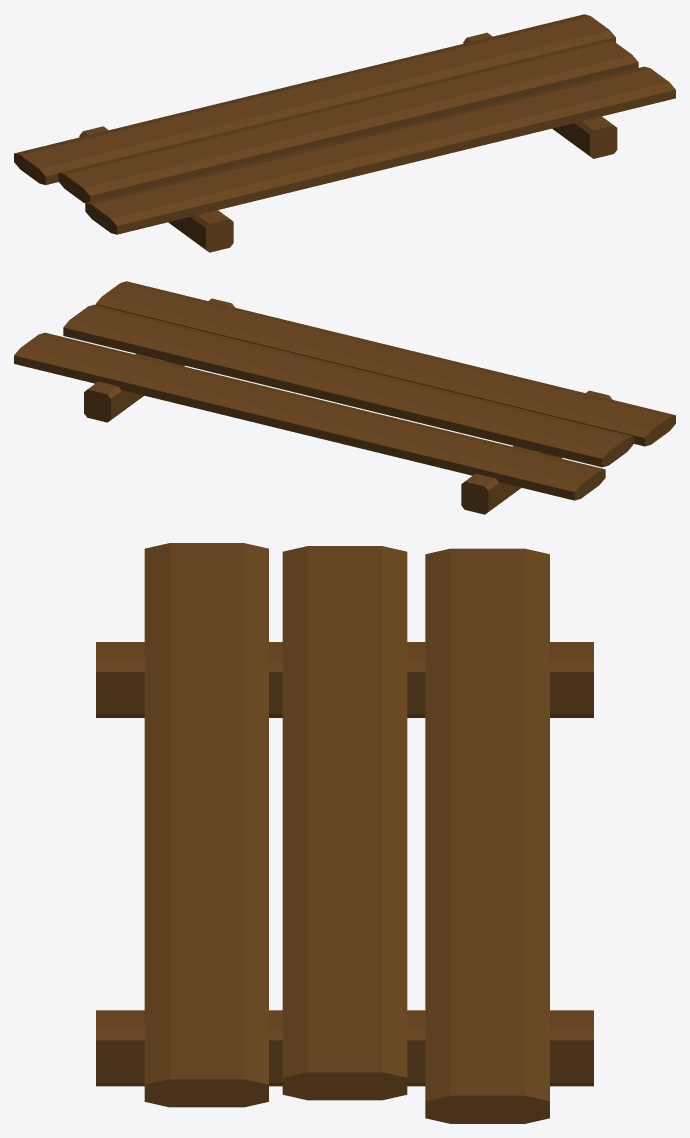
File: Floor.fbx
The picture shows the model from 3 angles, top to bottom: view 1: azimuth 30°, elevation 25°; view 2: azimuth 150°, elevation 25°; view 3: azimuth 270°, elevation 25°; orthographic projection. The views are drawn at different scales.
Parts seen in each view (by area): view 1: Cube.001, Cube, Cube.002, Cube.003, Cube.004; view 2: Cube.002, Cube, Cube.001, Cube.004, Cube.003; view 3: Cube.002, Cube.001, Cube, Cube.003, Cube.004.
Boxes of the visible parts, left/top/right/bottom form: Cube.001: left=85, top=66, right=675, bottom=234; Cube: left=58, top=39, right=638, bottom=202; Cube.002: left=14, top=14, right=615, bottom=185; Cube.003: left=463, top=32, right=617, bottom=158; Cube.004: left=79, top=126, right=233, bottom=252; Cube.002: left=14, top=332, right=605, bottom=500; Cube: left=63, top=304, right=633, bottom=467; Cube.001: left=95, top=281, right=675, bottom=446; Cube.004: left=461, top=390, right=612, bottom=514; Cube.003: left=84, top=298, right=234, bottom=422; Cube.002: left=425, top=548, right=549, bottom=1123; Cube.001: left=144, top=543, right=268, bottom=1107; Cube: left=282, top=546, right=407, bottom=1100; Cube.003: left=96, top=1010, right=593, bottom=1086; Cube.004: left=96, top=642, right=593, bottom=717.
Size of the model in its own units: 4160 by 295 by 1600.
